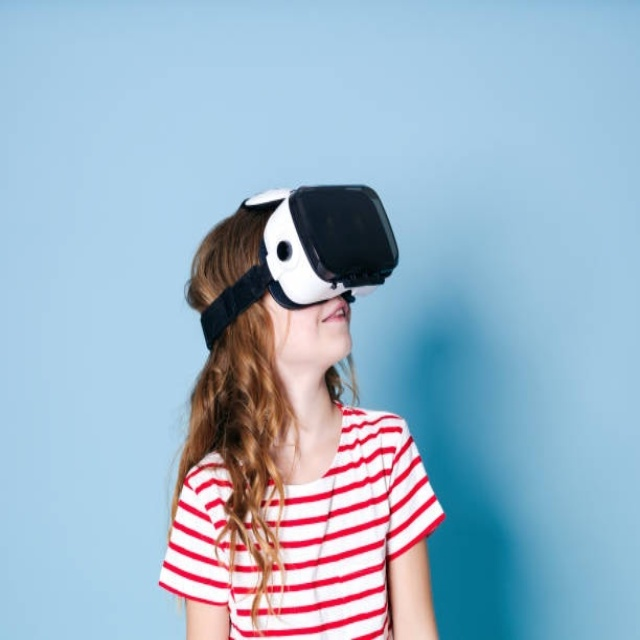Sin_mascara: (316, 300, 353, 354)
